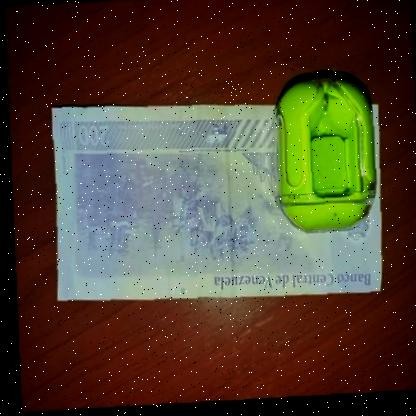two_hundred-back-vef: (46, 94, 384, 311)
